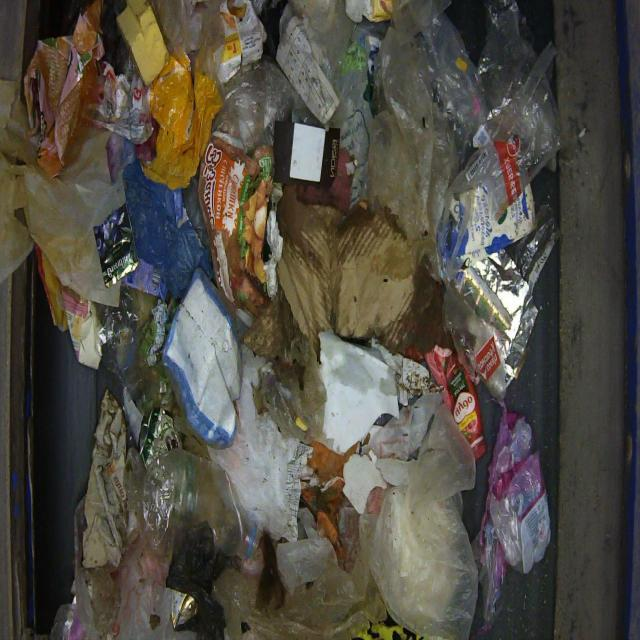other-trash: (13, 0, 562, 638)
